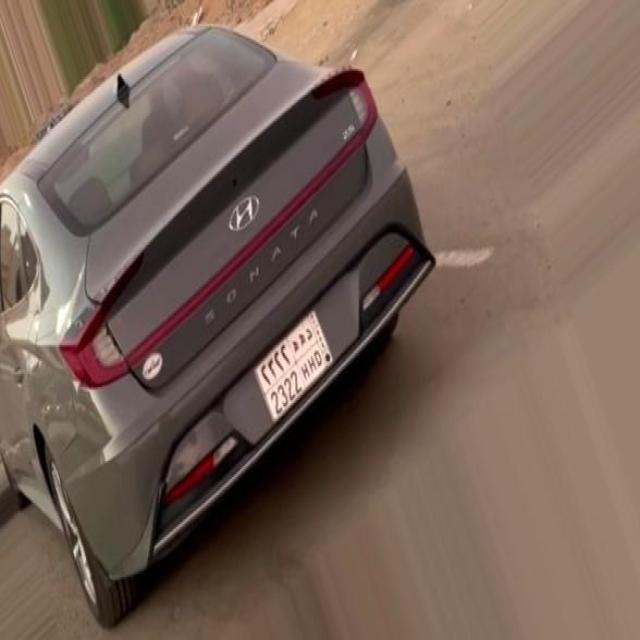Car-plate: (246, 293, 339, 433)
